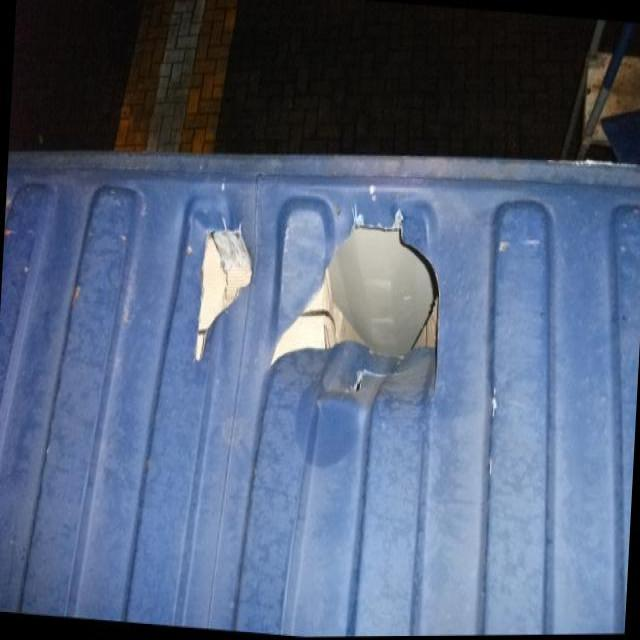hole: (260, 208, 448, 396), (191, 215, 257, 383)
